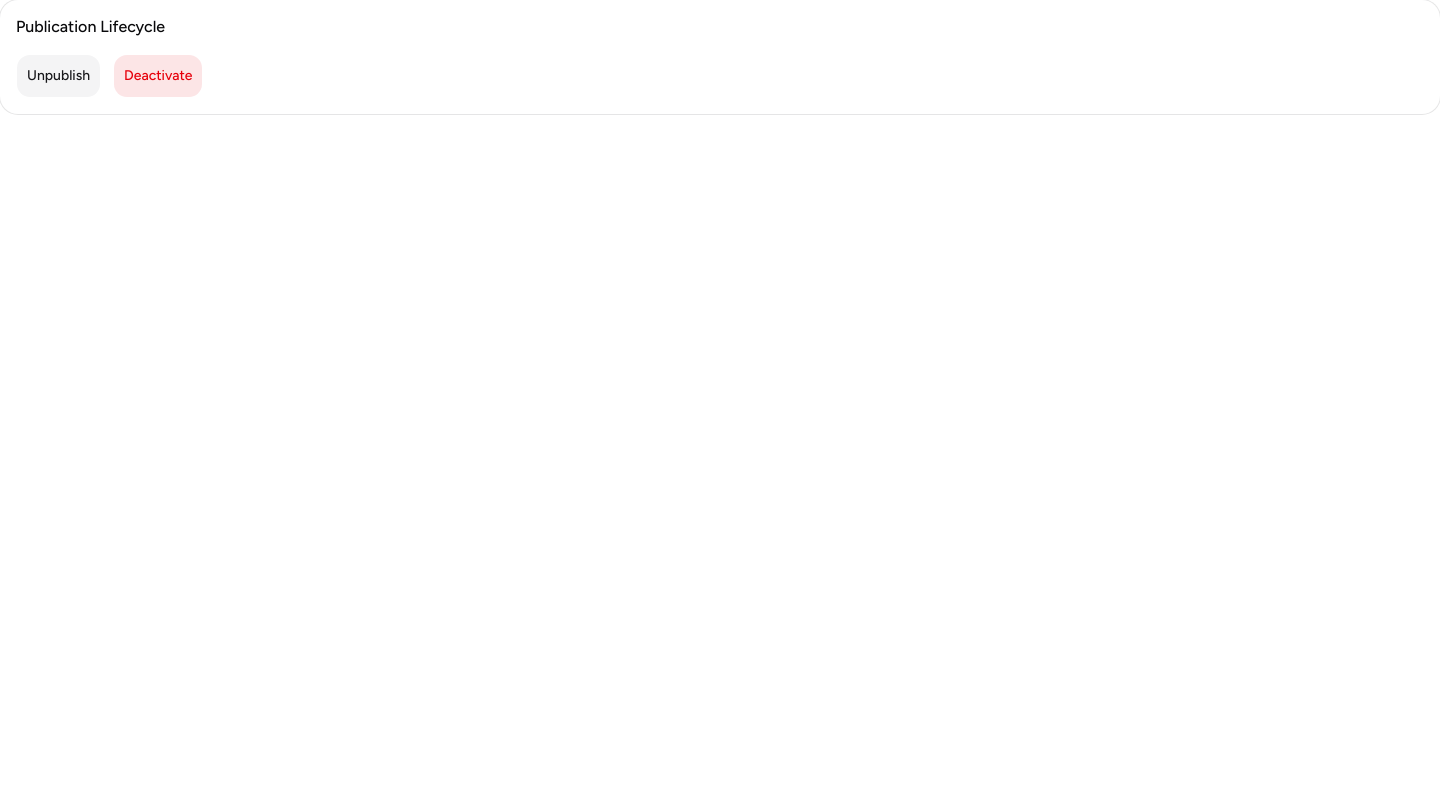
it: ContentLifecycleActions › announces success and keeps the announcement focusable
What coordinates should you click on to do the following:
click the button "Unpublish"
I would click on:
 (59, 76)
Its box is [16,54,101,98].
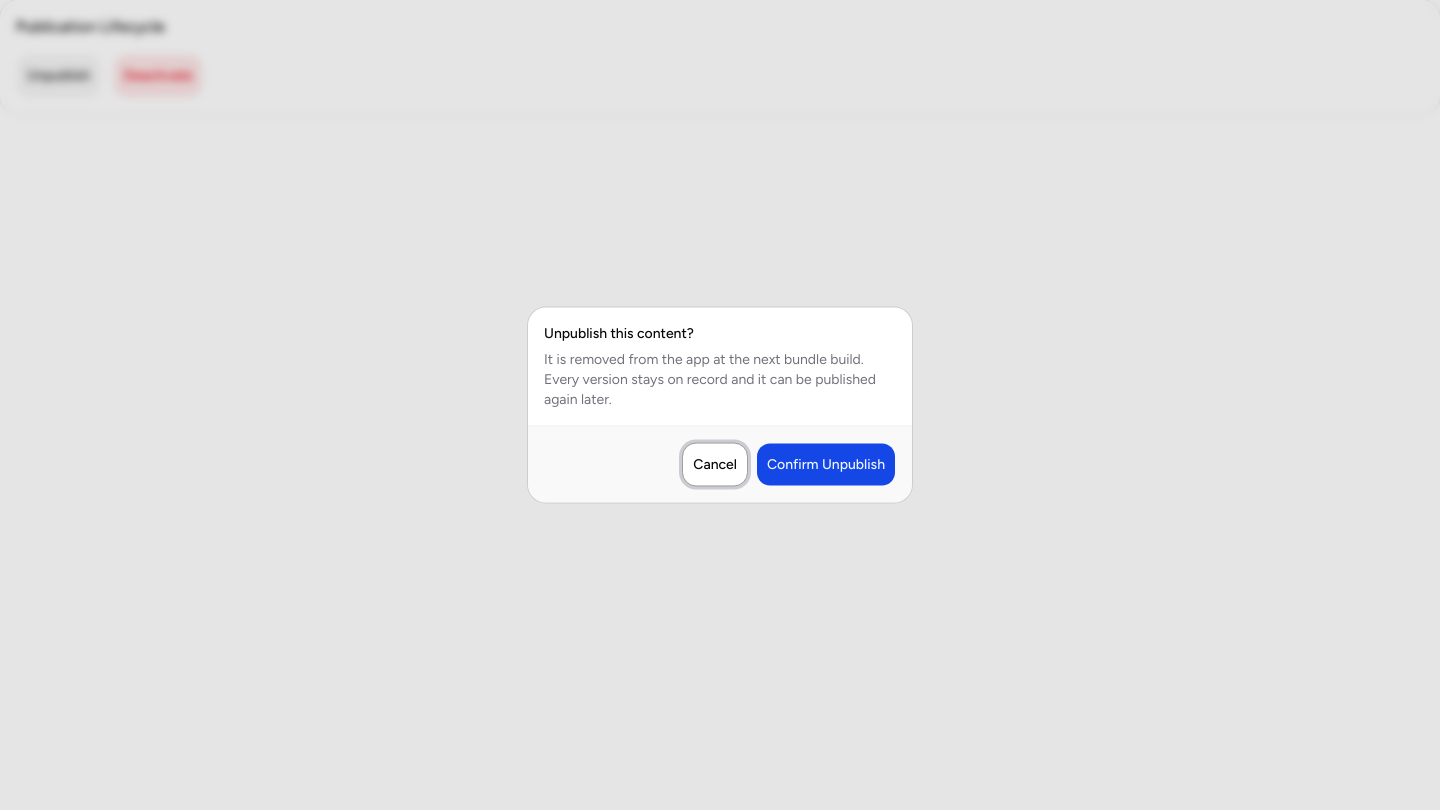
What coordinates should you click on to do the following:
click the button "Confirm Unpublish"
I would click on:
 (826, 464)
Its box is [756,442,896,486].
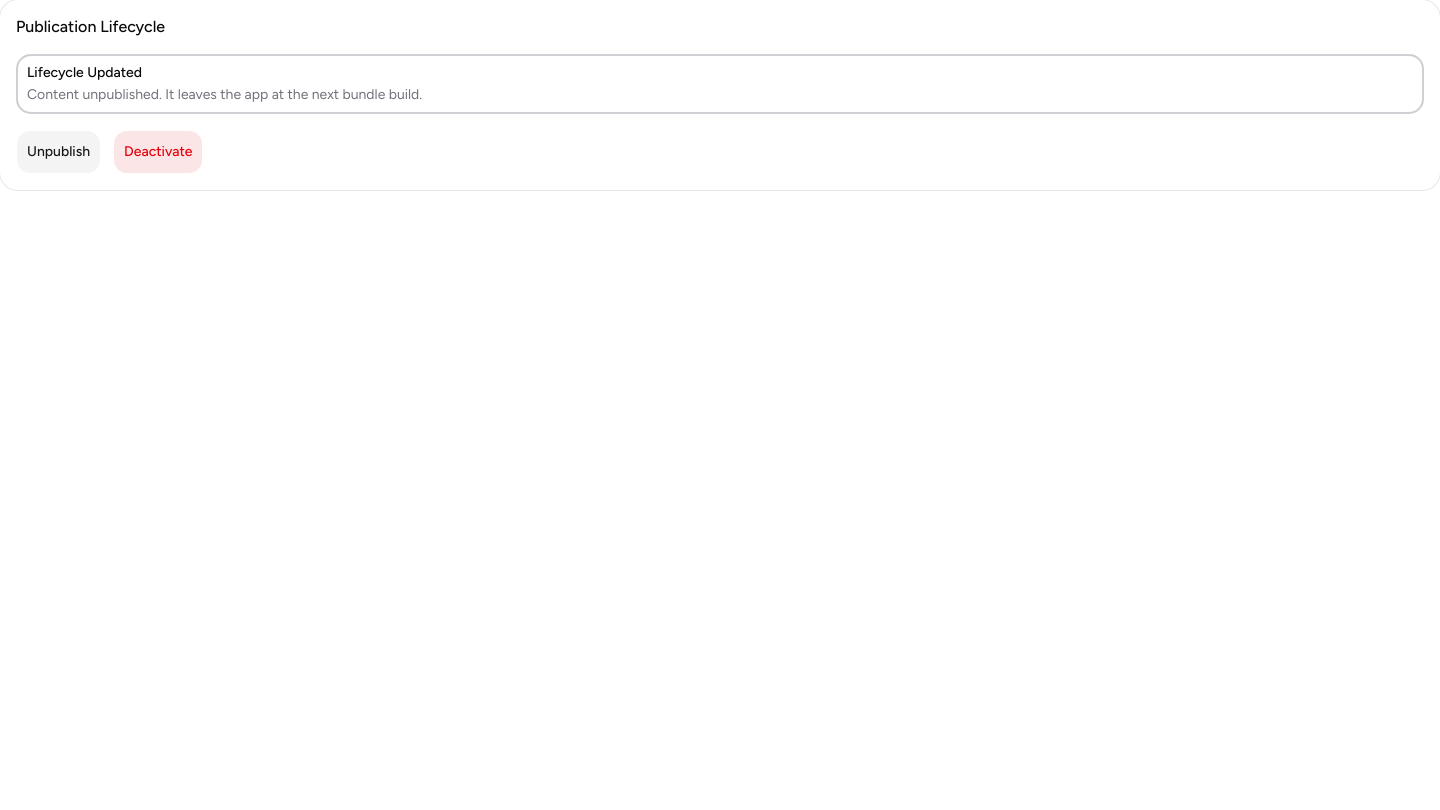
Check: the text "Lifecycle Updated" is shown, box [27,64,142,81]
Check: the text "leaves the app at the next bundle build" is shown, box [27,86,422,103]
